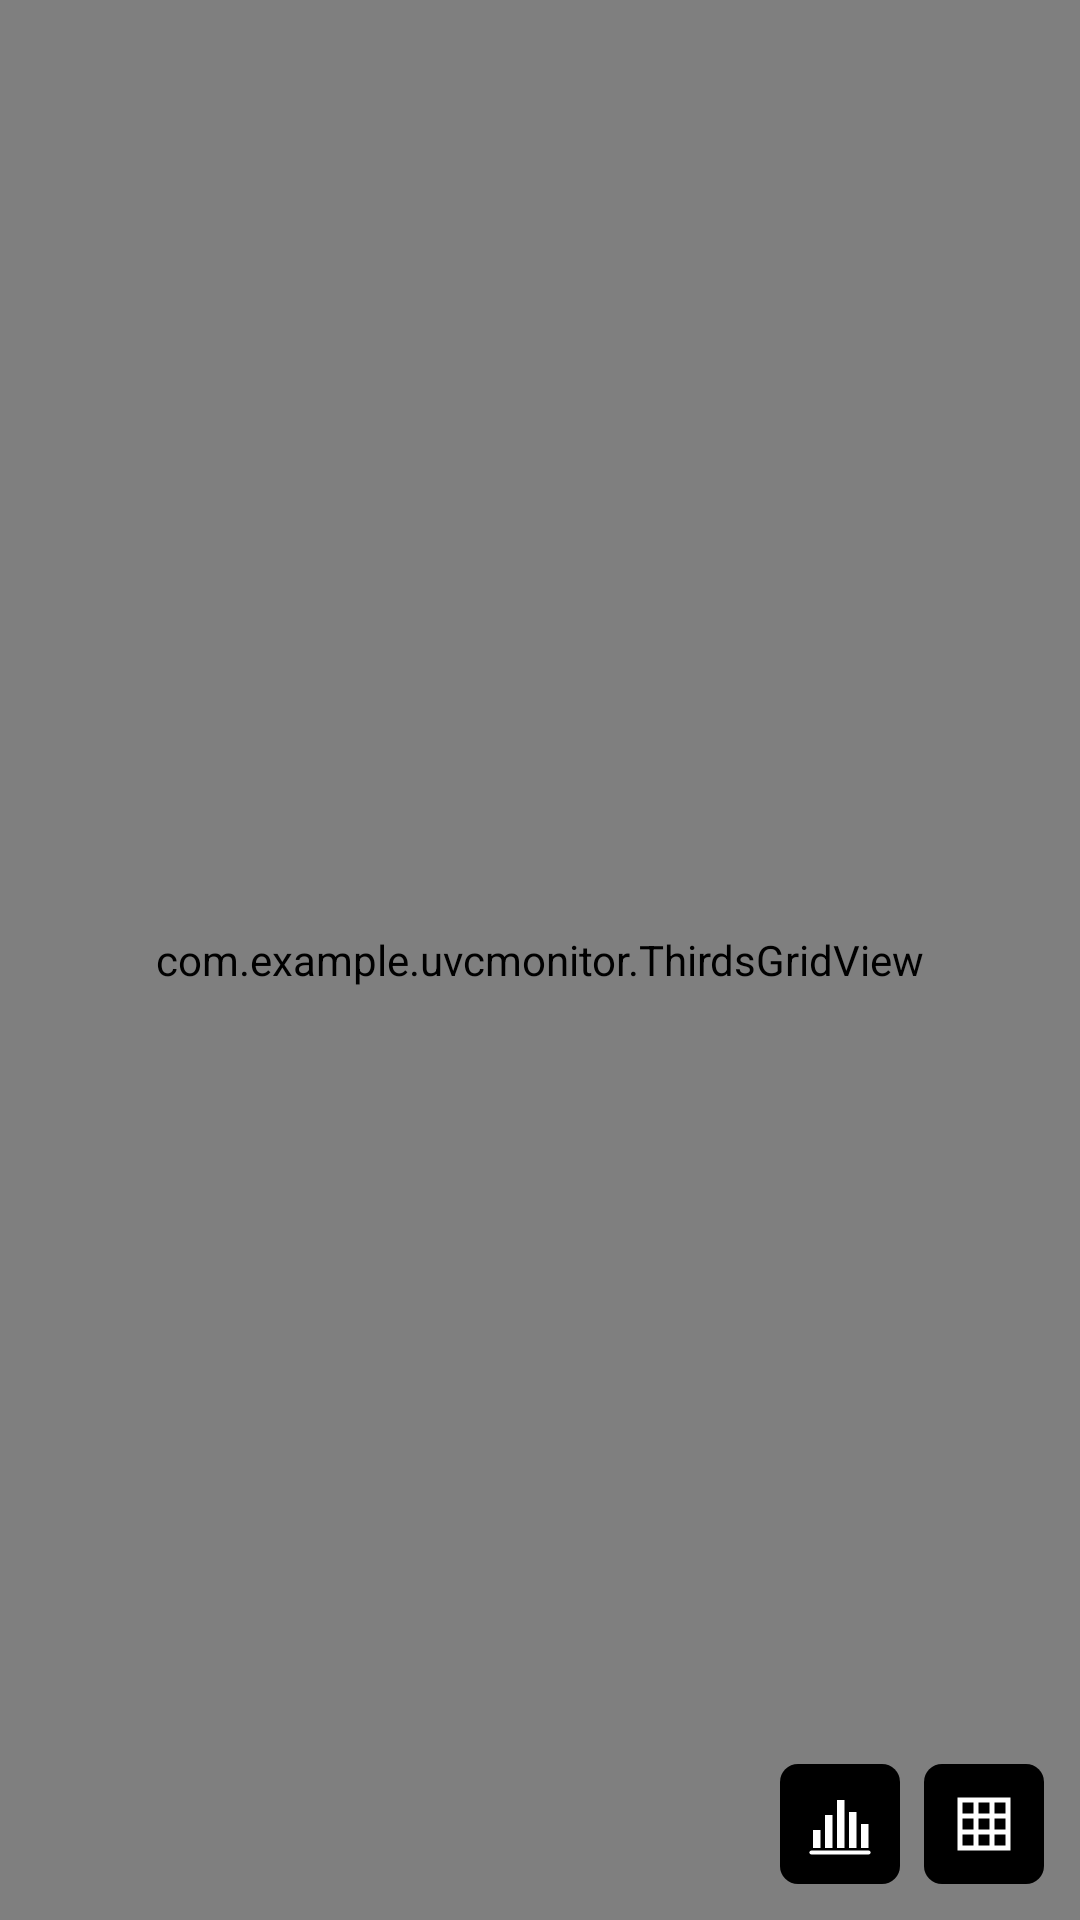

Screen size 1080px×1920px. Icon name, then its center in pixels as (x,y):
Toggle grid: (984,1824)
Toggle histogram: (840,1824)
